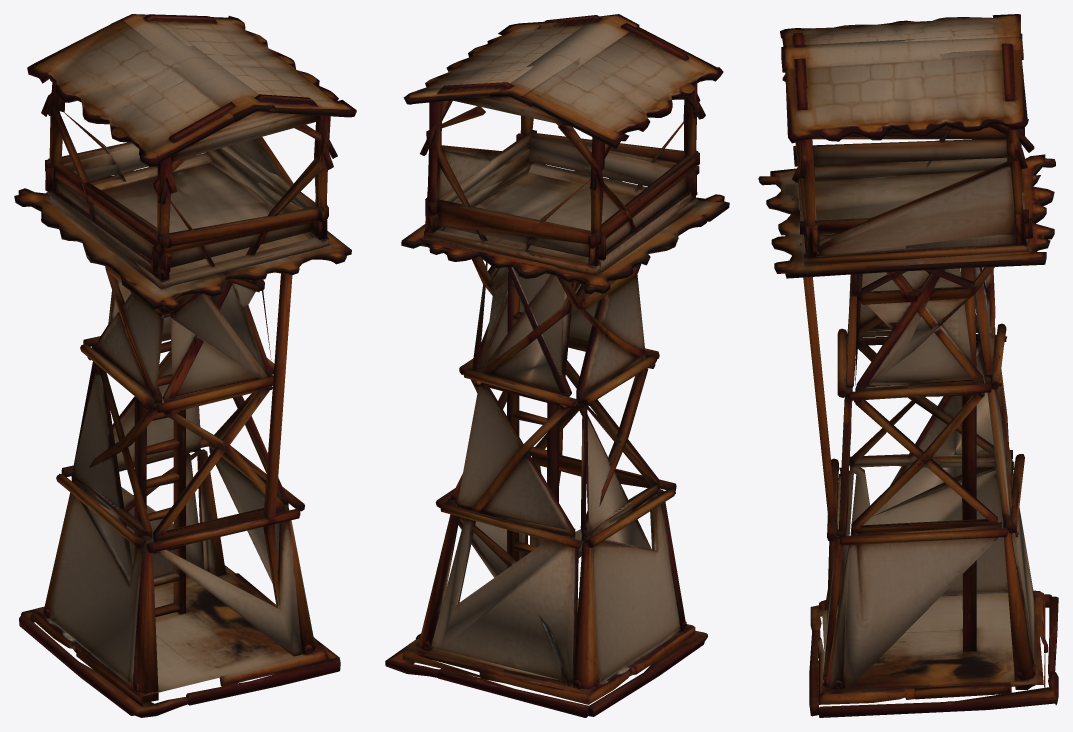
The model's file is wooden watchtower 3d model.glb.
3 views of the same model, side by side, from view 1: azimuth 30°, elevation 25°; view 2: azimuth 150°, elevation 25°; view 3: azimuth 270°, elevation 25° (orthographic). The views are drawn at different scales.
Visible parts, largest first — view 1: tripo_node_f43c3353-978e-46a9-a161-d8efe6e3379c; view 2: tripo_node_f43c3353-978e-46a9-a161-d8efe6e3379c; view 3: tripo_node_f43c3353-978e-46a9-a161-d8efe6e3379c.
Boxes of the visible parts, x1=… form: tripo_node_f43c3353-978e-46a9-a161-d8efe6e3379c: x1=14, y1=14, x2=356, y2=717; tripo_node_f43c3353-978e-46a9-a161-d8efe6e3379c: x1=385, y1=14, x2=729, y2=717; tripo_node_f43c3353-978e-46a9-a161-d8efe6e3379c: x1=758, y1=14, x2=1058, y2=717.
Bounding box in the file's own units: 0.377 × 0.998 × 0.4355.
1 material, 1 textured.
